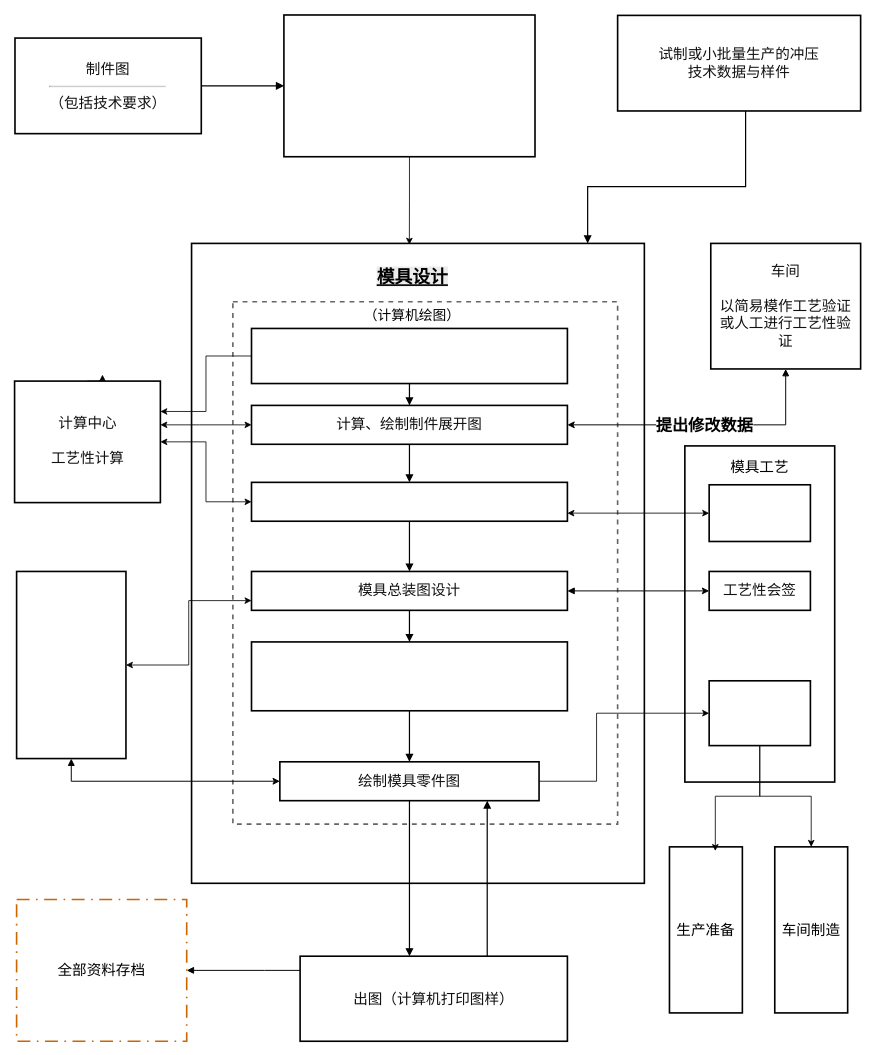
Some shapes in this 876 by 1055 pixel diagram are drawn without their labels. The centre of each missing label's shape, as x and y in pixels:
"工艺分析并初步拟定工位数 和各工位冲压性质" belongs at point (409, 355).
"工艺性 会审讨论" belongs at point (759, 513).
"校对 审核" belongs at point (70, 664).
"模具 工艺编制" belongs at point (759, 713).
"模具设计任务书 产量 批量 压力机 条料 送料方式 其他" belongs at point (409, 85).
"编写模具相关使用 说明书、填写零件明细栏" belongs at point (409, 676).
"设计、绘制排样图" belongs at point (409, 501).
